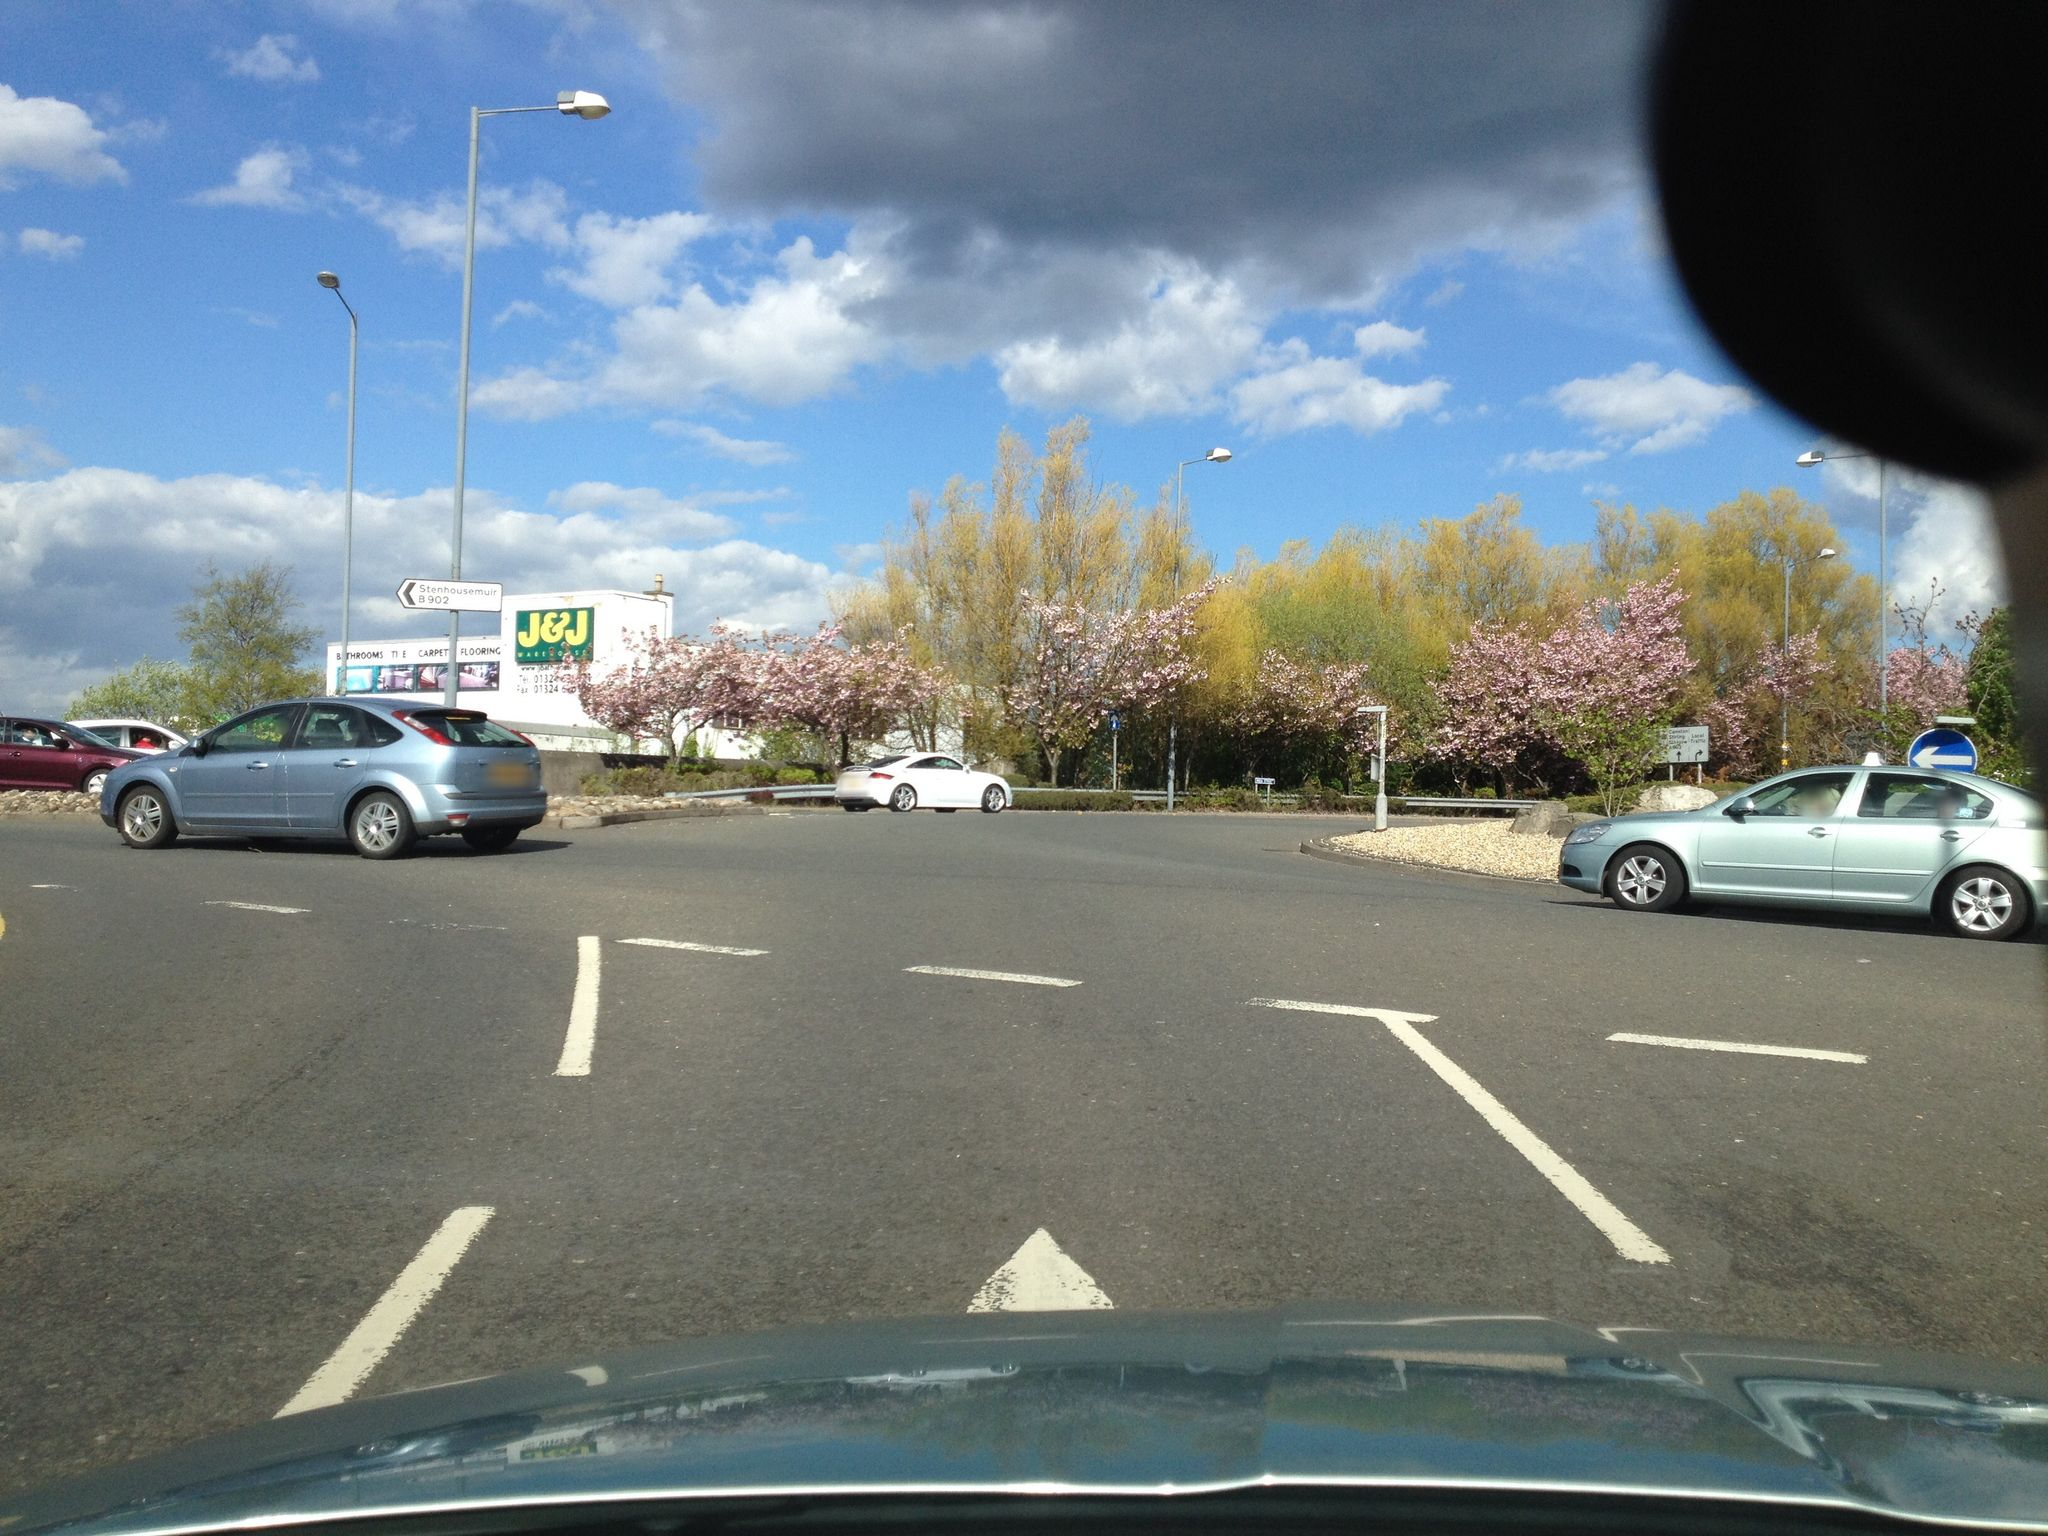car: (1555, 765, 2048, 937), (102, 697, 547, 860), (0, 715, 158, 800), (834, 750, 1013, 813), (50, 716, 192, 757)
